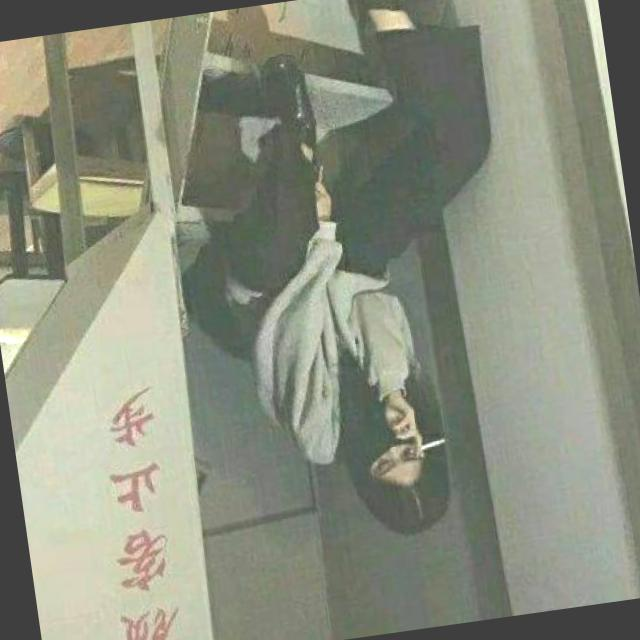cigarette: (420, 438, 448, 451)
